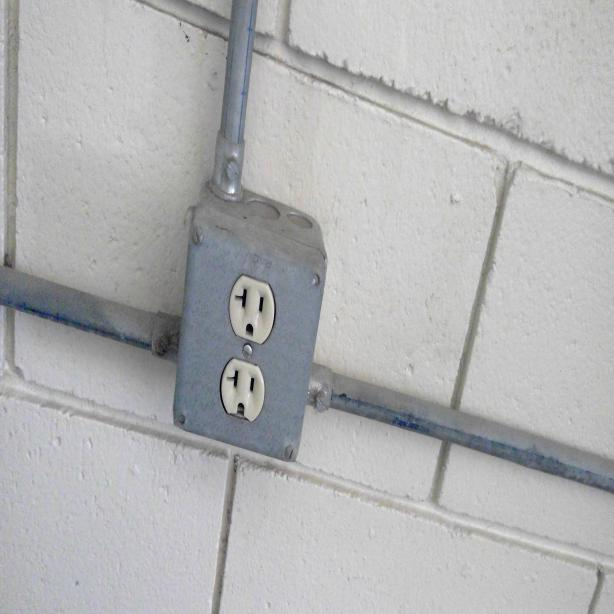typeb: (230, 282, 271, 340), (221, 365, 262, 422)
